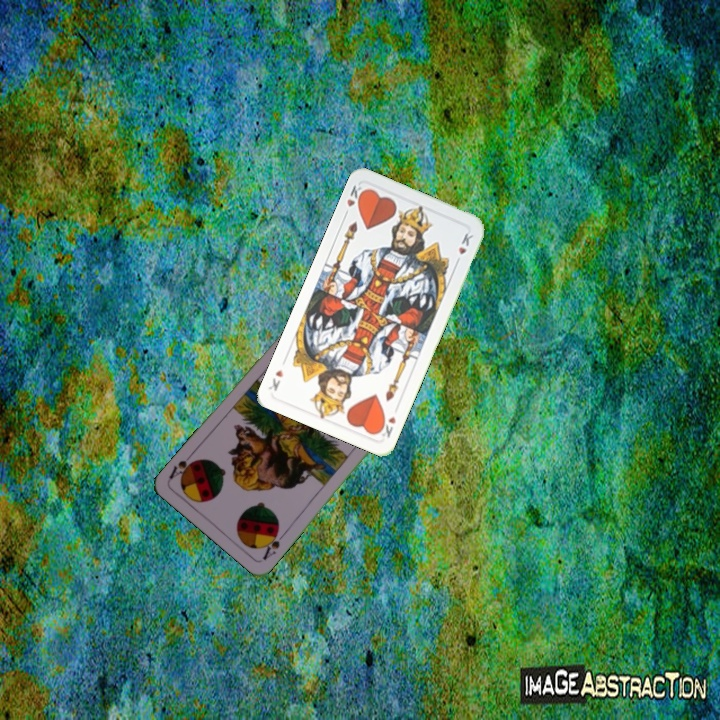HK: (340, 181, 368, 219), (374, 412, 399, 440)
SA: (258, 525, 288, 563)
